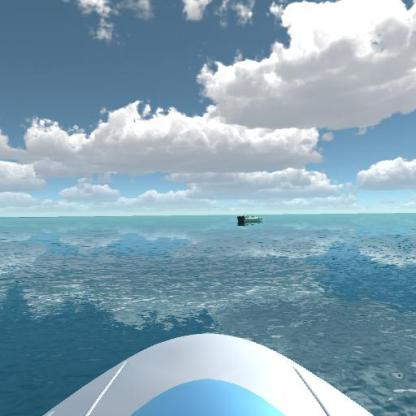usv0: (234, 210, 266, 227)
